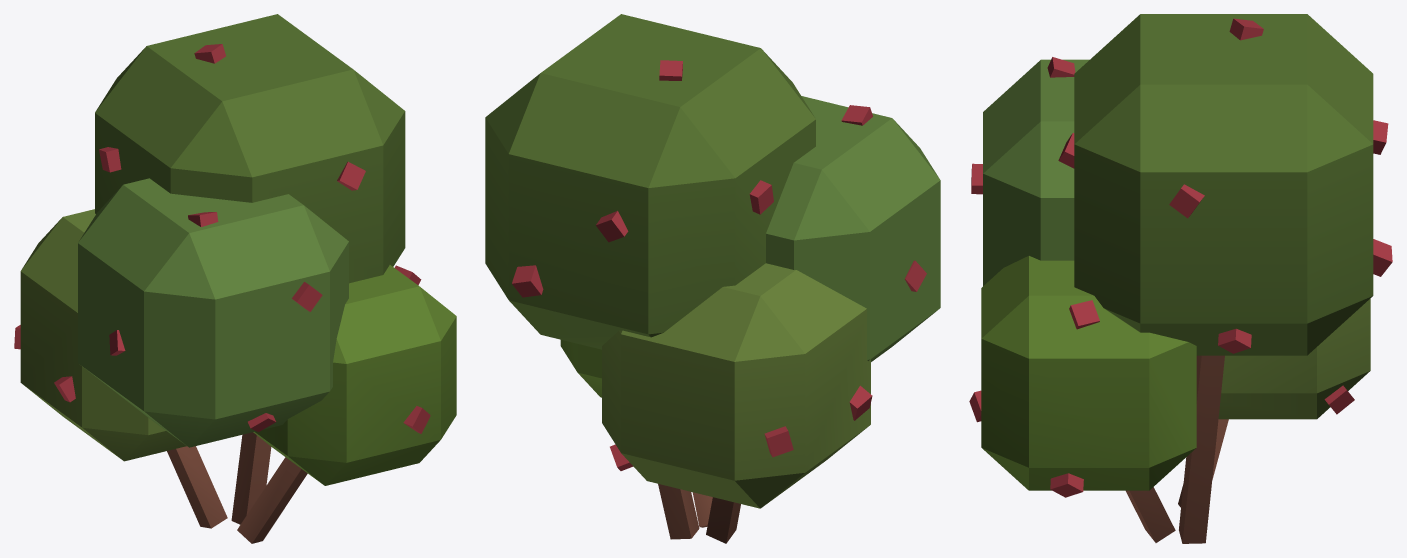
The model's file is berrybush.glb.
3 renders of one model, left to right at view 1: azimuth 30°, elevation 25°; view 2: azimuth 150°, elevation 25°; view 3: azimuth 270°, elevation 25°, orthographic. The views are drawn at different scales.
Parts seen in each view (by area): view 1: Cube.018; view 2: Cube.018; view 3: Cube.018.
Part boxes in pixels (x1=…): Cube.018: x1=14, y1=14, x2=456, y2=543; Cube.018: x1=485, y1=14, x2=940, y2=543; Cube.018: x1=969, y1=14, x2=1392, y2=543.
Size of the model in its own units: 1.06 by 1.44 by 1.07.
